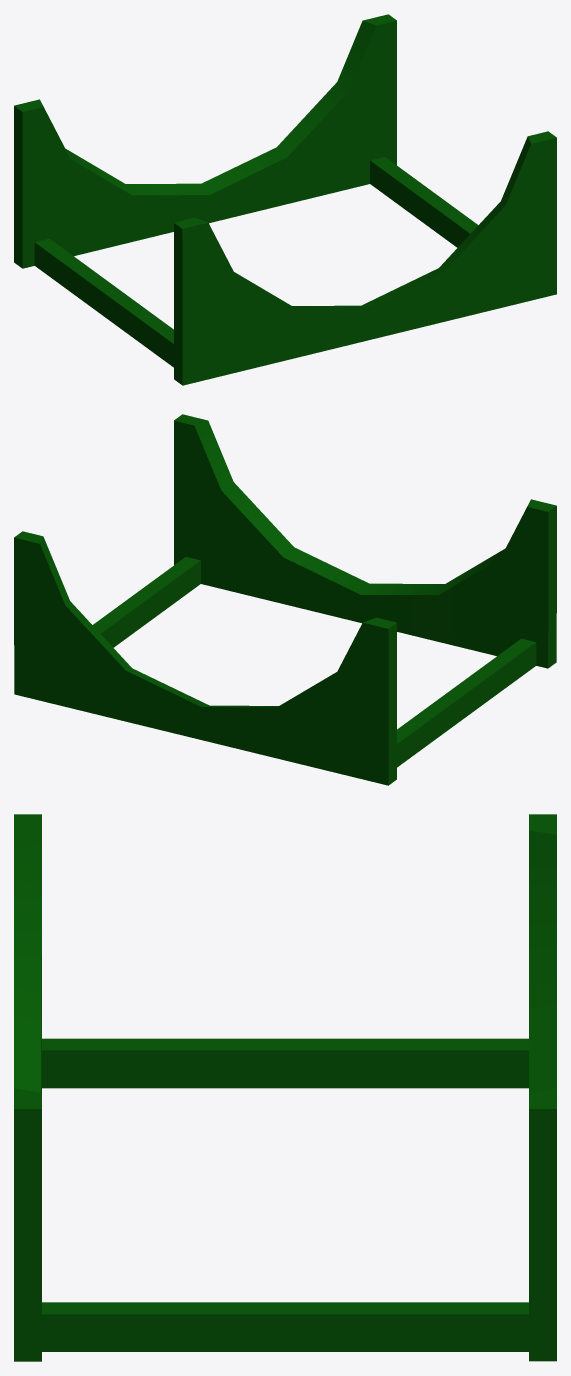
Rendered from barrel01a.FBX.
3 views of the same model, one above another, from view 1: azimuth 30°, elevation 25°; view 2: azimuth 150°, elevation 25°; view 3: azimuth 270°, elevation 25° (orthographic). The views are drawn at different scales.
Visible parts, largest first — view 1: SM_barrel01a_0; view 2: SM_barrel01a_0; view 3: SM_barrel01a_0.
Boxes of the visible parts, x1,y1,x2,y2 form: SM_barrel01a_0: (14, 14, 556, 385); SM_barrel01a_0: (14, 414, 556, 785); SM_barrel01a_0: (14, 814, 556, 1361).
Size of the model in its own units: 50 by 38.96 by 20.
